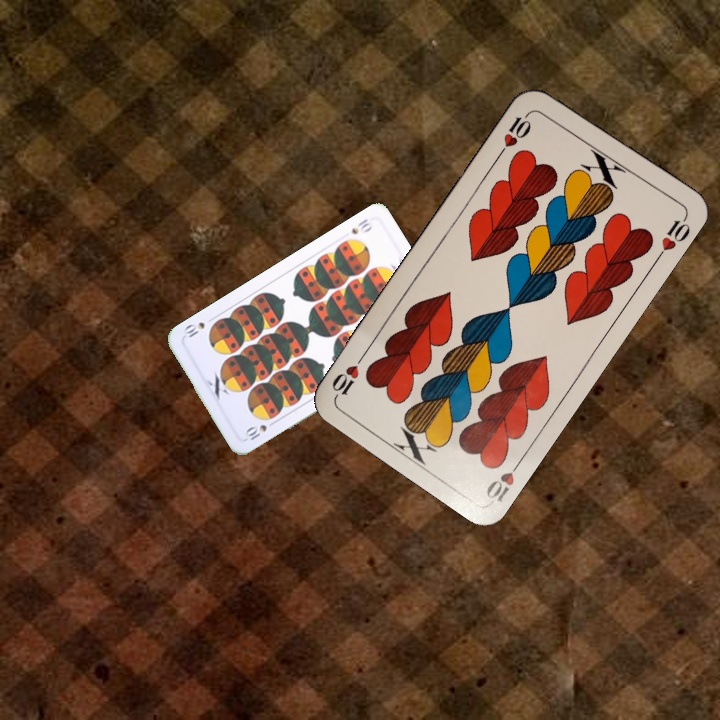H10: (482, 453, 526, 506), (494, 107, 534, 159)
S10: (241, 420, 270, 443), (347, 214, 375, 237)
